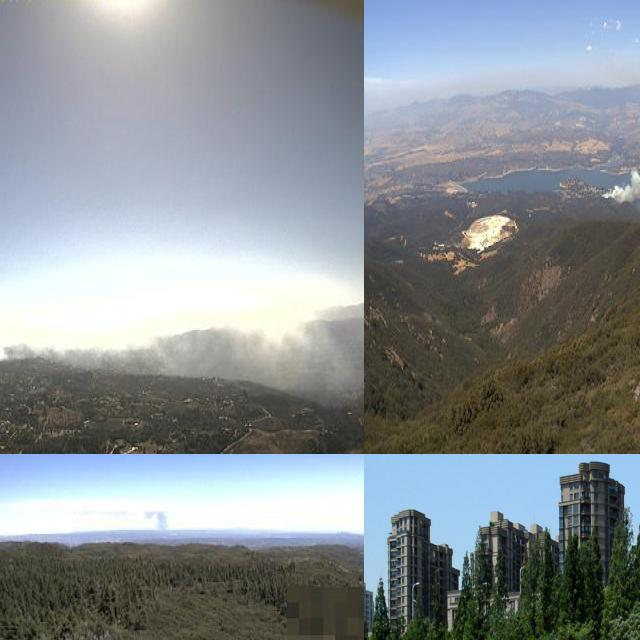smoke: (0, 304, 361, 395), (600, 77, 640, 203), (137, 506, 170, 539)
